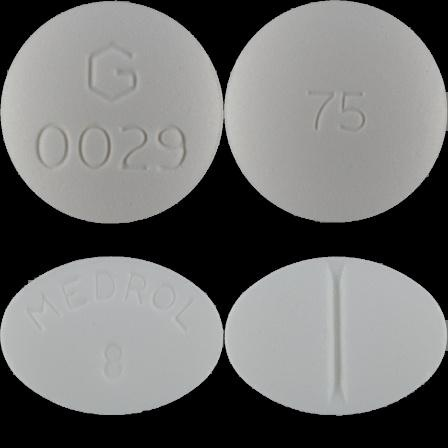59762-0029: (0, 0, 224, 224)
